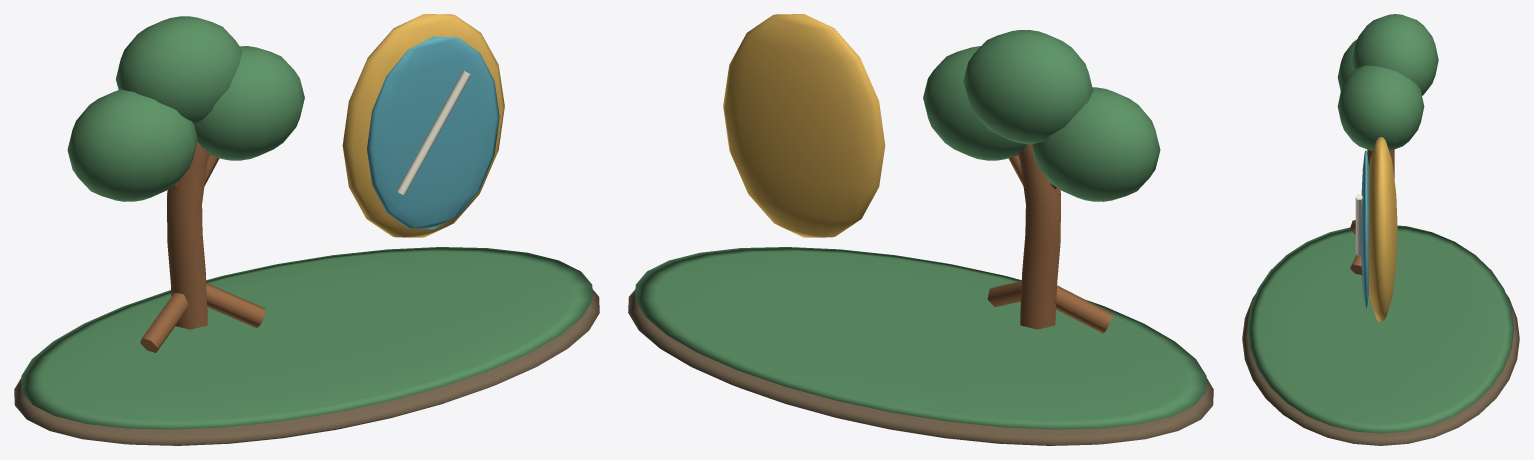
The model's file is facing-tree.glb.
The picture shows the model from 3 angles, left to right: view 1: azimuth 30°, elevation 25°; view 2: azimuth 150°, elevation 25°; view 3: azimuth 270°, elevation 25°; orthographic projection. The views are drawn at different scales.
Visible parts, largest first — view 1: facing-tree_surface_01, facing-tree_surface_04, facing-tree_surface_00, facing-tree_surface_03, facing-tree_surface_02, facing-tree_surface_05; view 2: facing-tree_surface_01, facing-tree_surface_03, facing-tree_surface_00, facing-tree_surface_02; view 3: facing-tree_surface_01, facing-tree_surface_00, facing-tree_surface_03, facing-tree_surface_04, facing-tree_surface_05, facing-tree_surface_02.
Boxes of the visible parts, <box> form: facing-tree_surface_01: <box>21,16,592,429</box>; facing-tree_surface_04: <box>367,36,499,229</box>; facing-tree_surface_00: <box>14,289,599,445</box>; facing-tree_surface_03: <box>342,14,504,237</box>; facing-tree_surface_02: <box>140,141,265,352</box>; facing-tree_surface_05: <box>397,70,470,195</box>; facing-tree_surface_01: <box>635,30,1206,429</box>; facing-tree_surface_03: <box>723,14,885,237</box>; facing-tree_surface_00: <box>628,289,1213,445</box>; facing-tree_surface_02: <box>987,144,1113,333</box>; facing-tree_surface_01: <box>1247,14,1514,433</box>; facing-tree_surface_00: <box>1242,294,1519,445</box>; facing-tree_surface_03: <box>1368,137,1397,321</box>; facing-tree_surface_04: <box>1361,150,1368,308</box>; facing-tree_surface_05: <box>1355,194,1362,255</box>; facing-tree_surface_02: <box>1350,149,1394,274</box>.
Bounding box in the file's own units: 4.56 × 2.86 × 2.5.
